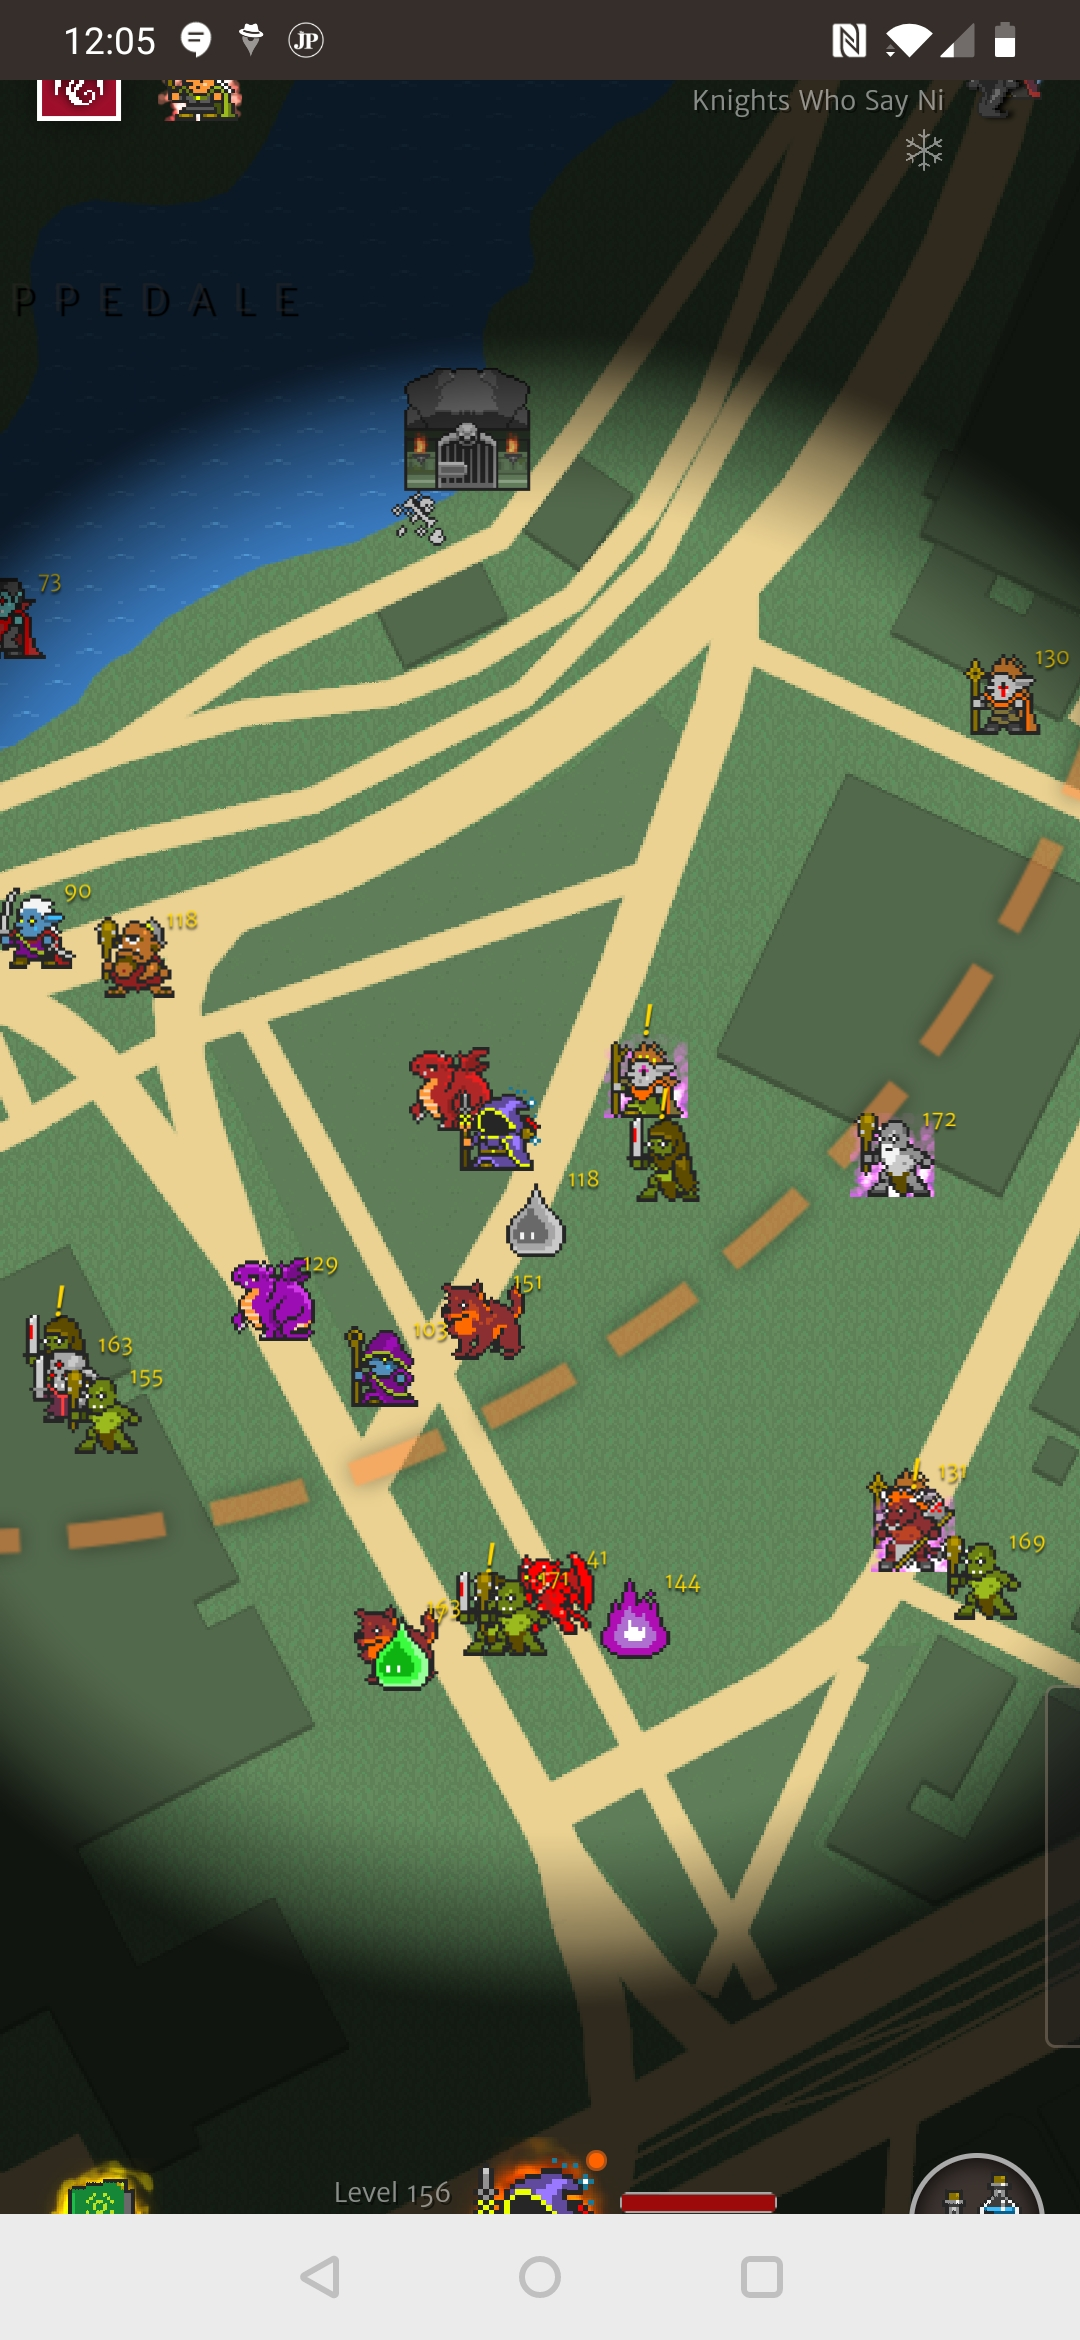monster: (841, 1095, 963, 1226), (220, 1246, 339, 1350), (955, 644, 1069, 746), (498, 1170, 604, 1266), (439, 1270, 547, 1363), (92, 907, 198, 1001), (344, 1321, 451, 1411), (33, 1336, 133, 1428), (1, 881, 94, 980), (65, 1368, 170, 1456), (602, 1574, 705, 1662)
player: (455, 1091, 545, 1177)
